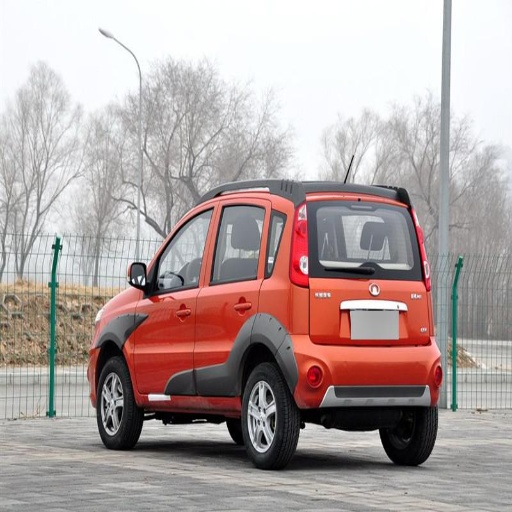back_left_door: (197, 200, 272, 395)
trunk: (263, 196, 429, 389)
